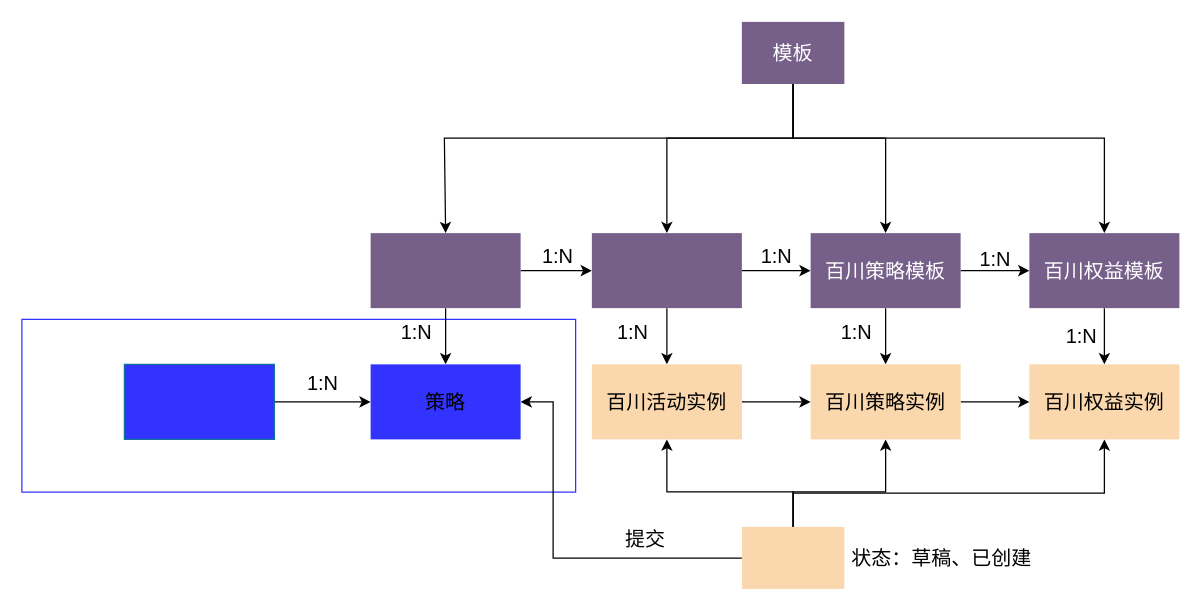
This 1201x610 diagram has some shape labels left out. The shapes that lost their labels are listed below. From the top down, each one's box as (x1, y1, x2, y2) in pixels, then its label:
(370, 232, 520, 308): 海纳策略 模板
(591, 232, 741, 308): 百川活动 模板
(123, 363, 274, 439): 策略包
(741, 526, 844, 588): 实例
